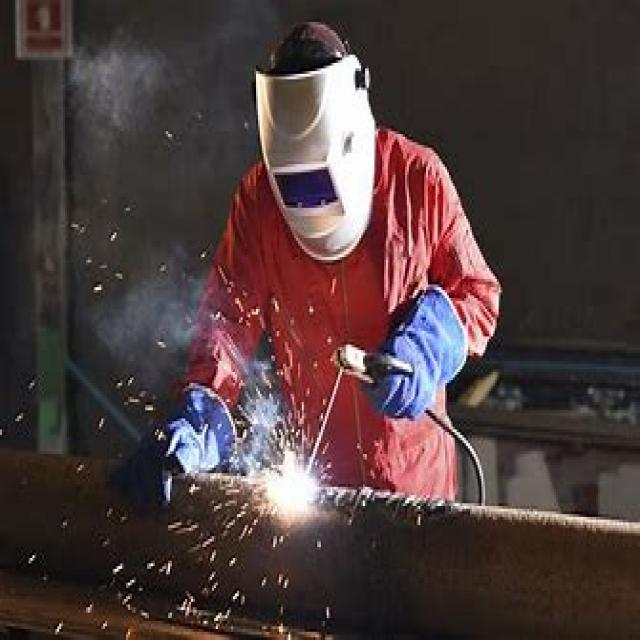with_helmet: (240, 7, 405, 292)
